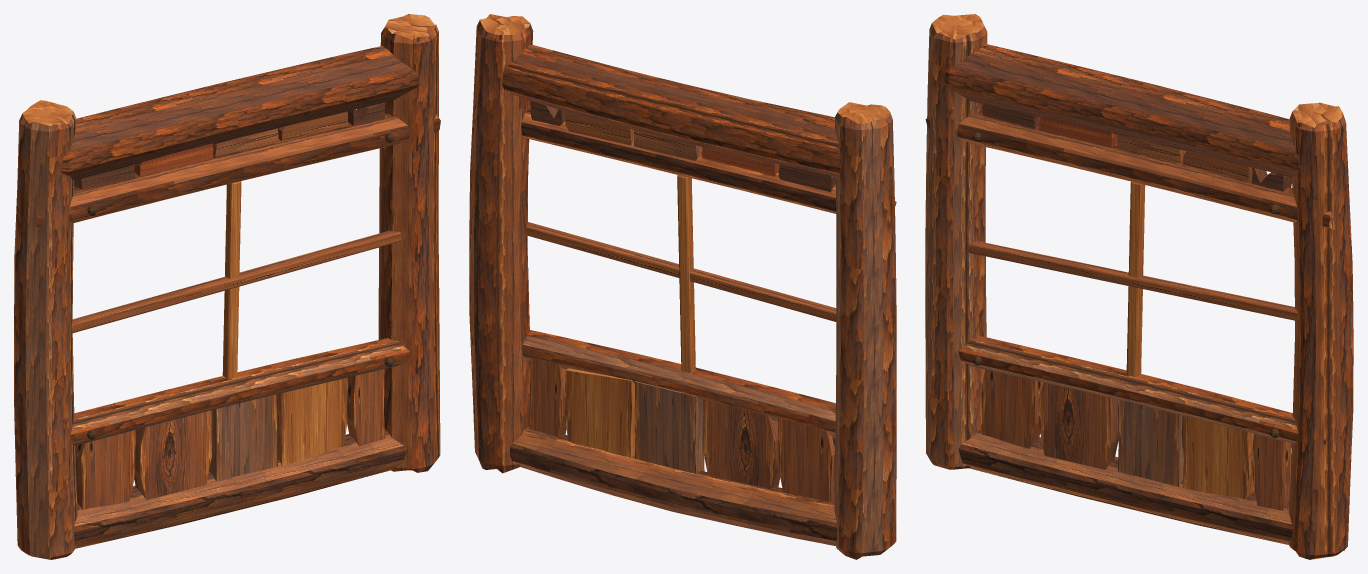
File: window_wide__plank_root.glb
3 renders of one model, left to right at view 1: azimuth 30°, elevation 25°; view 2: azimuth 150°, elevation 25°; view 3: azimuth 330°, elevation 25°, orthographic.
Parts seen in each view (by area): view 1: model; view 2: model; view 3: model.
Part boxes in pixels (x1,y1,x2,y2): model: [14, 14, 440, 559]; model: [469, 14, 896, 559]; model: [925, 14, 1353, 559].
Size of the model in its own units: 1.97 by 2 by 0.2685.
19 materials, 19 textured.
